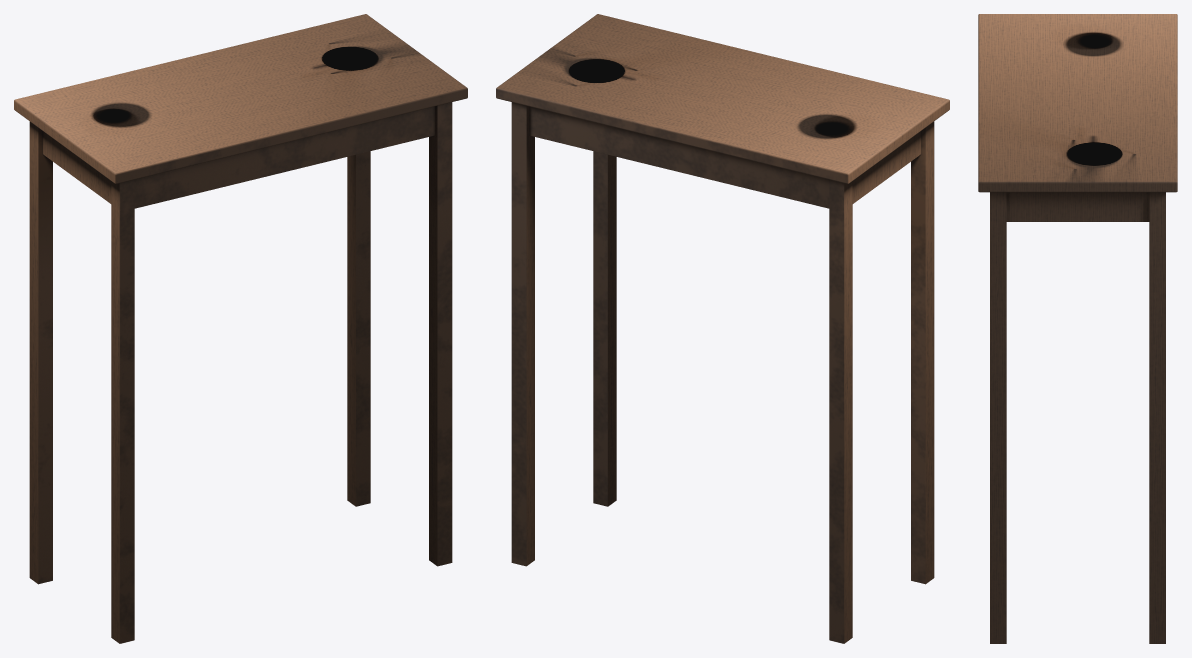
File: 809_all.glb
3 renders of one model, left to right at view 1: azimuth 30°, elevation 25°; view 2: azimuth 150°, elevation 25°; view 3: azimuth 270°, elevation 25°, orthographic. The views are drawn at different scales.
Visible parts, largest first — view 1: Table; view 2: Table; view 3: Table.
Part boxes in pixels (x1=…): Table: x1=14, y1=14, x2=467, y2=643; Table: x1=496, y1=14, x2=949, y2=643; Table: x1=978, y1=14, x2=1177, y2=643.
Size of what is drawn, in the model's own units: 2.4 by 3.1 by 1.2.
Materials: 1 (1 with a texture image).
